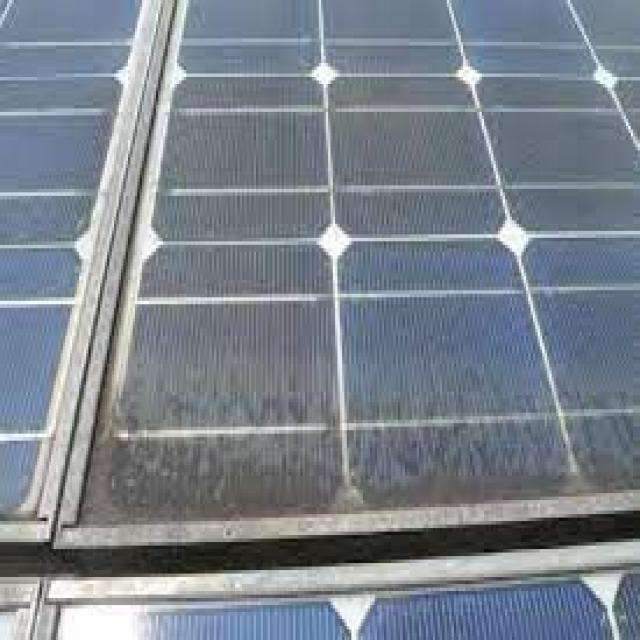faulty: (89, 22, 640, 533)
